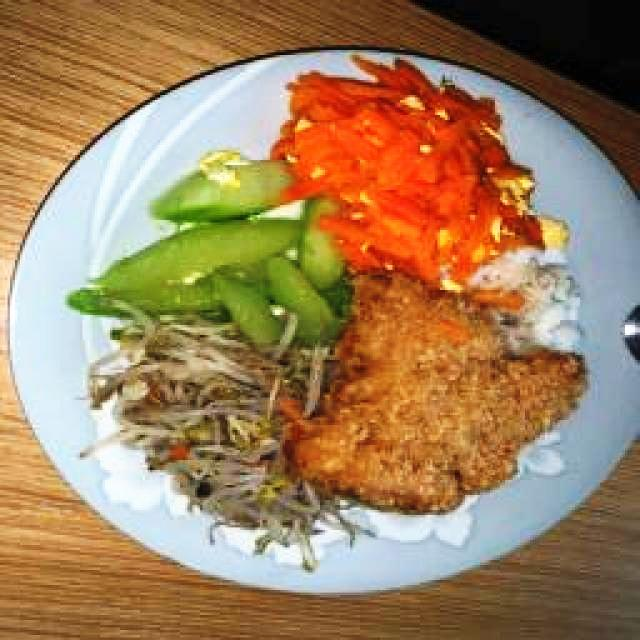carrot_eggs: (279, 54, 547, 286)
fried_chicken: (286, 267, 587, 516)
mung_bean_sprouts: (95, 327, 266, 527)
